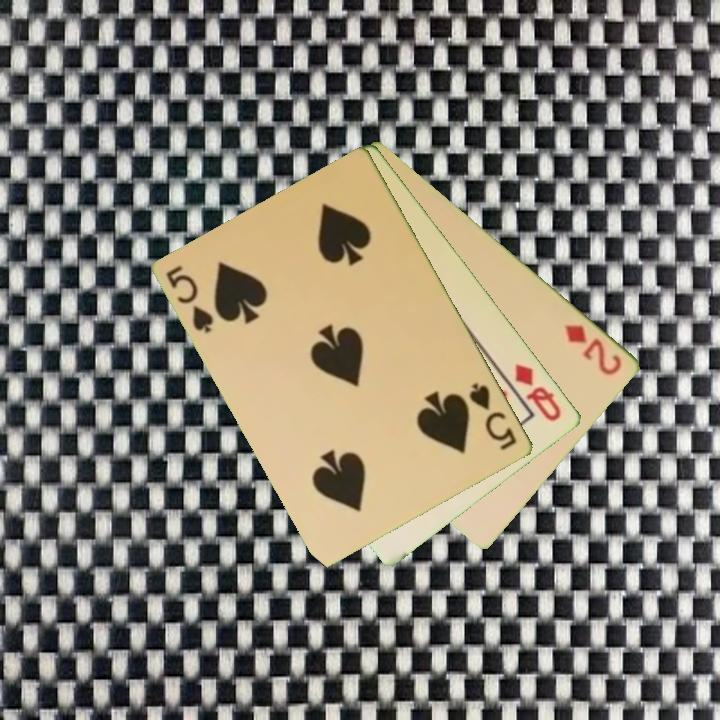2d: (561, 320, 626, 379)
5s: (466, 379, 520, 454), (163, 262, 217, 337)
Qd: (512, 360, 565, 425)
